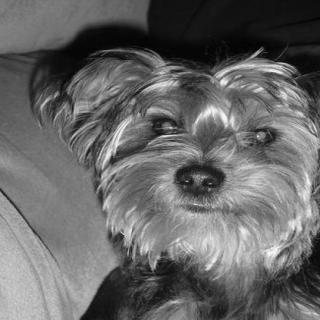dog: (69, 44, 320, 273)
nose: (169, 156, 230, 200)
